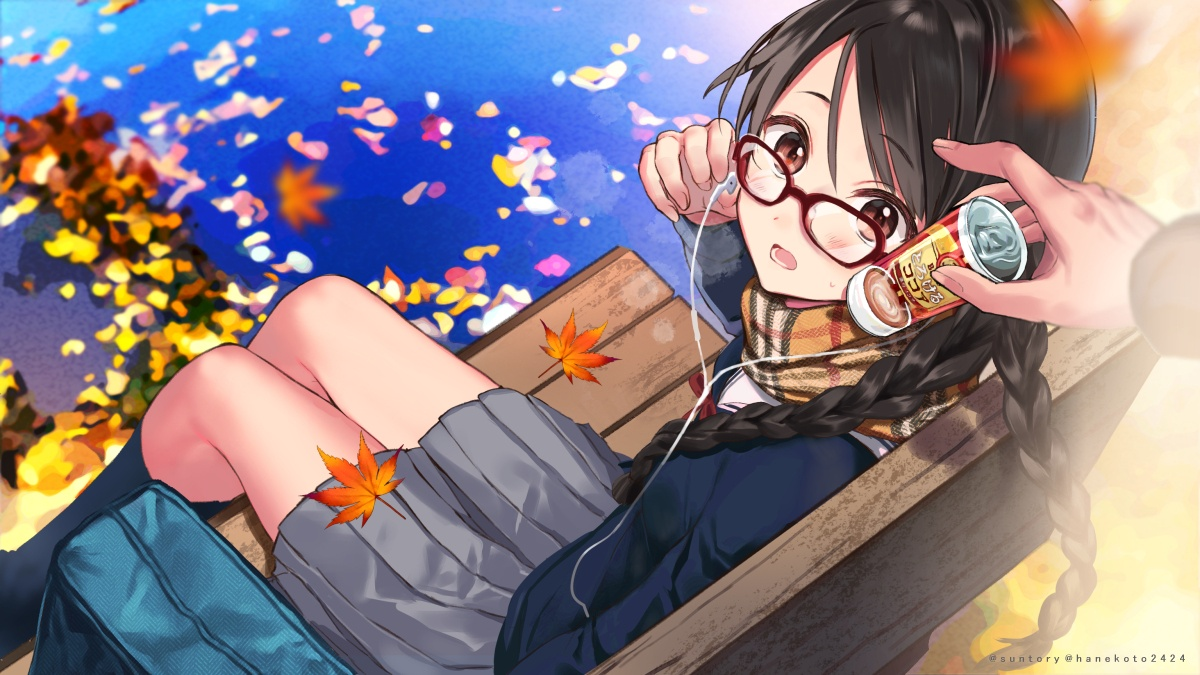纸片人正脸: (705, 0, 1044, 313)
